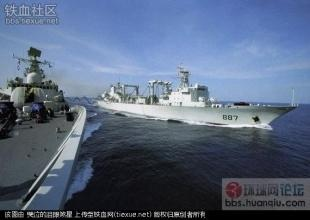warship: (1, 45, 88, 211), (93, 62, 293, 130)
